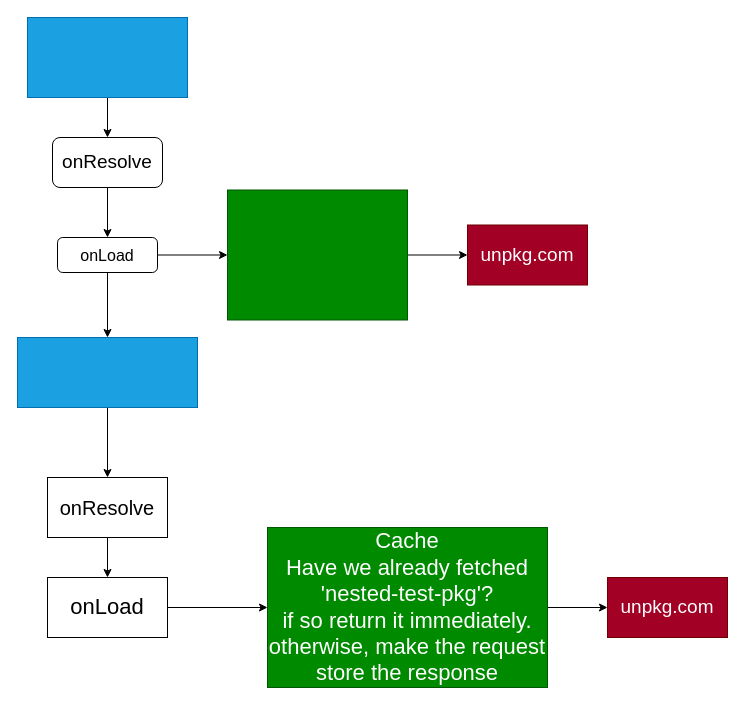
This 745x705 diagram has some shape labels left out. Here are the shapes that lost their labels. From the top down, the box of each, then its label:
(26, 16, 188, 98): 'nested-test-pkg
(226, 189, 408, 320): cache Have we alredy fetched 'nested-test-pkg'? if so,return it immedeiatly
(16, 336, 198, 408): './helper/utils
